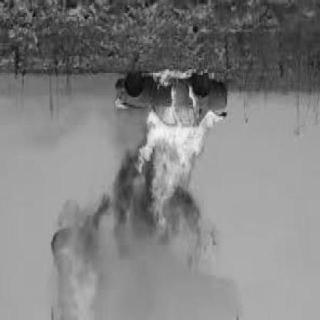Fire: (130, 71, 222, 233), (117, 100, 126, 123)
Smoke: (52, 212, 131, 320), (144, 246, 216, 312)
